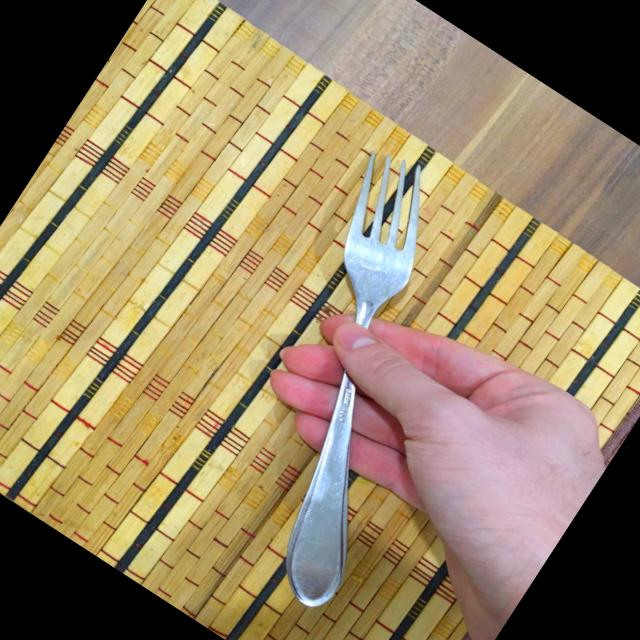fork: (145, 139, 556, 616)
